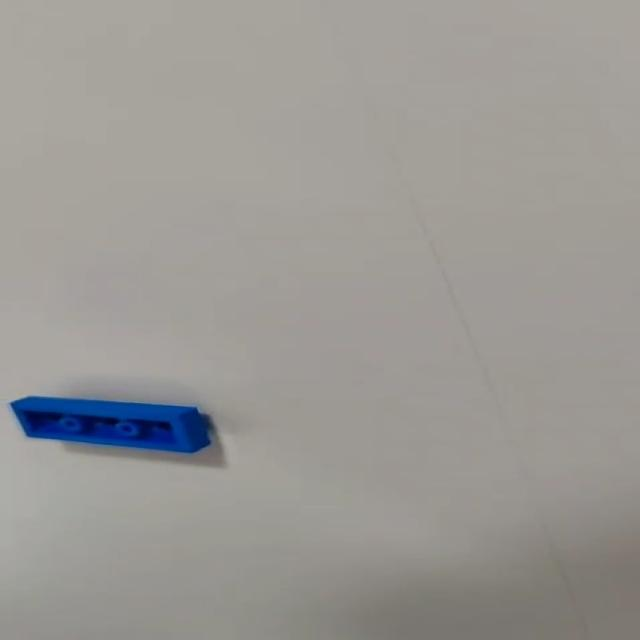C3x1x0: (9, 392, 217, 456)
